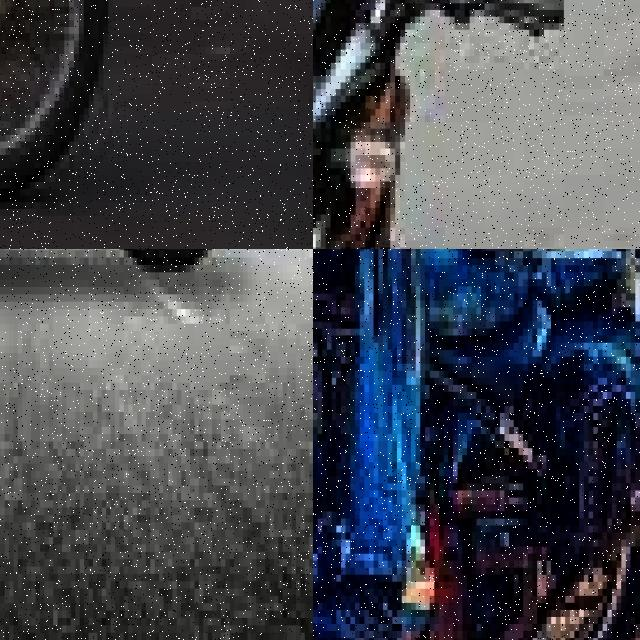bike: (313, 249, 640, 640), (313, 0, 469, 249), (0, 0, 118, 229), (0, 249, 247, 294)
